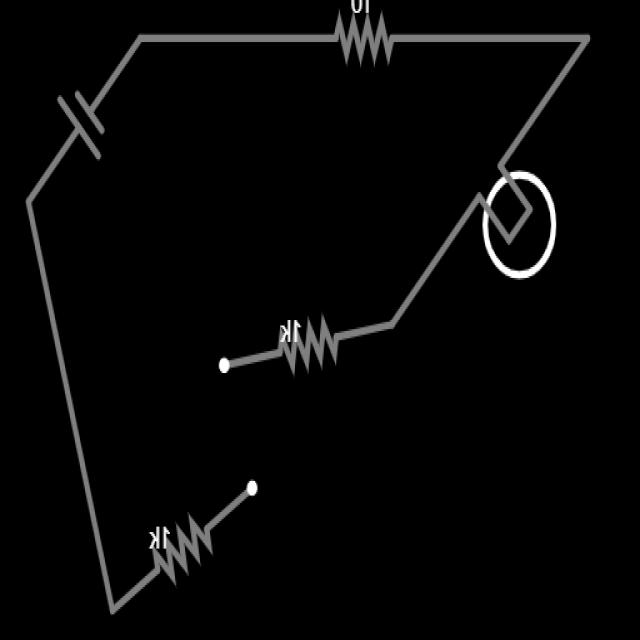Battery: (56, 91, 104, 162)
Light Bulb: (482, 168, 556, 279)
Resistor: (276, 313, 339, 379), (154, 516, 211, 584), (335, 13, 394, 66)
Wire: (26, 199, 116, 619), (390, 188, 485, 332), (496, 34, 588, 172), (86, 31, 143, 116), (25, 125, 81, 206), (390, 32, 590, 47), (208, 481, 258, 533), (110, 564, 159, 617), (140, 32, 338, 45), (218, 348, 279, 375), (335, 318, 394, 344)
